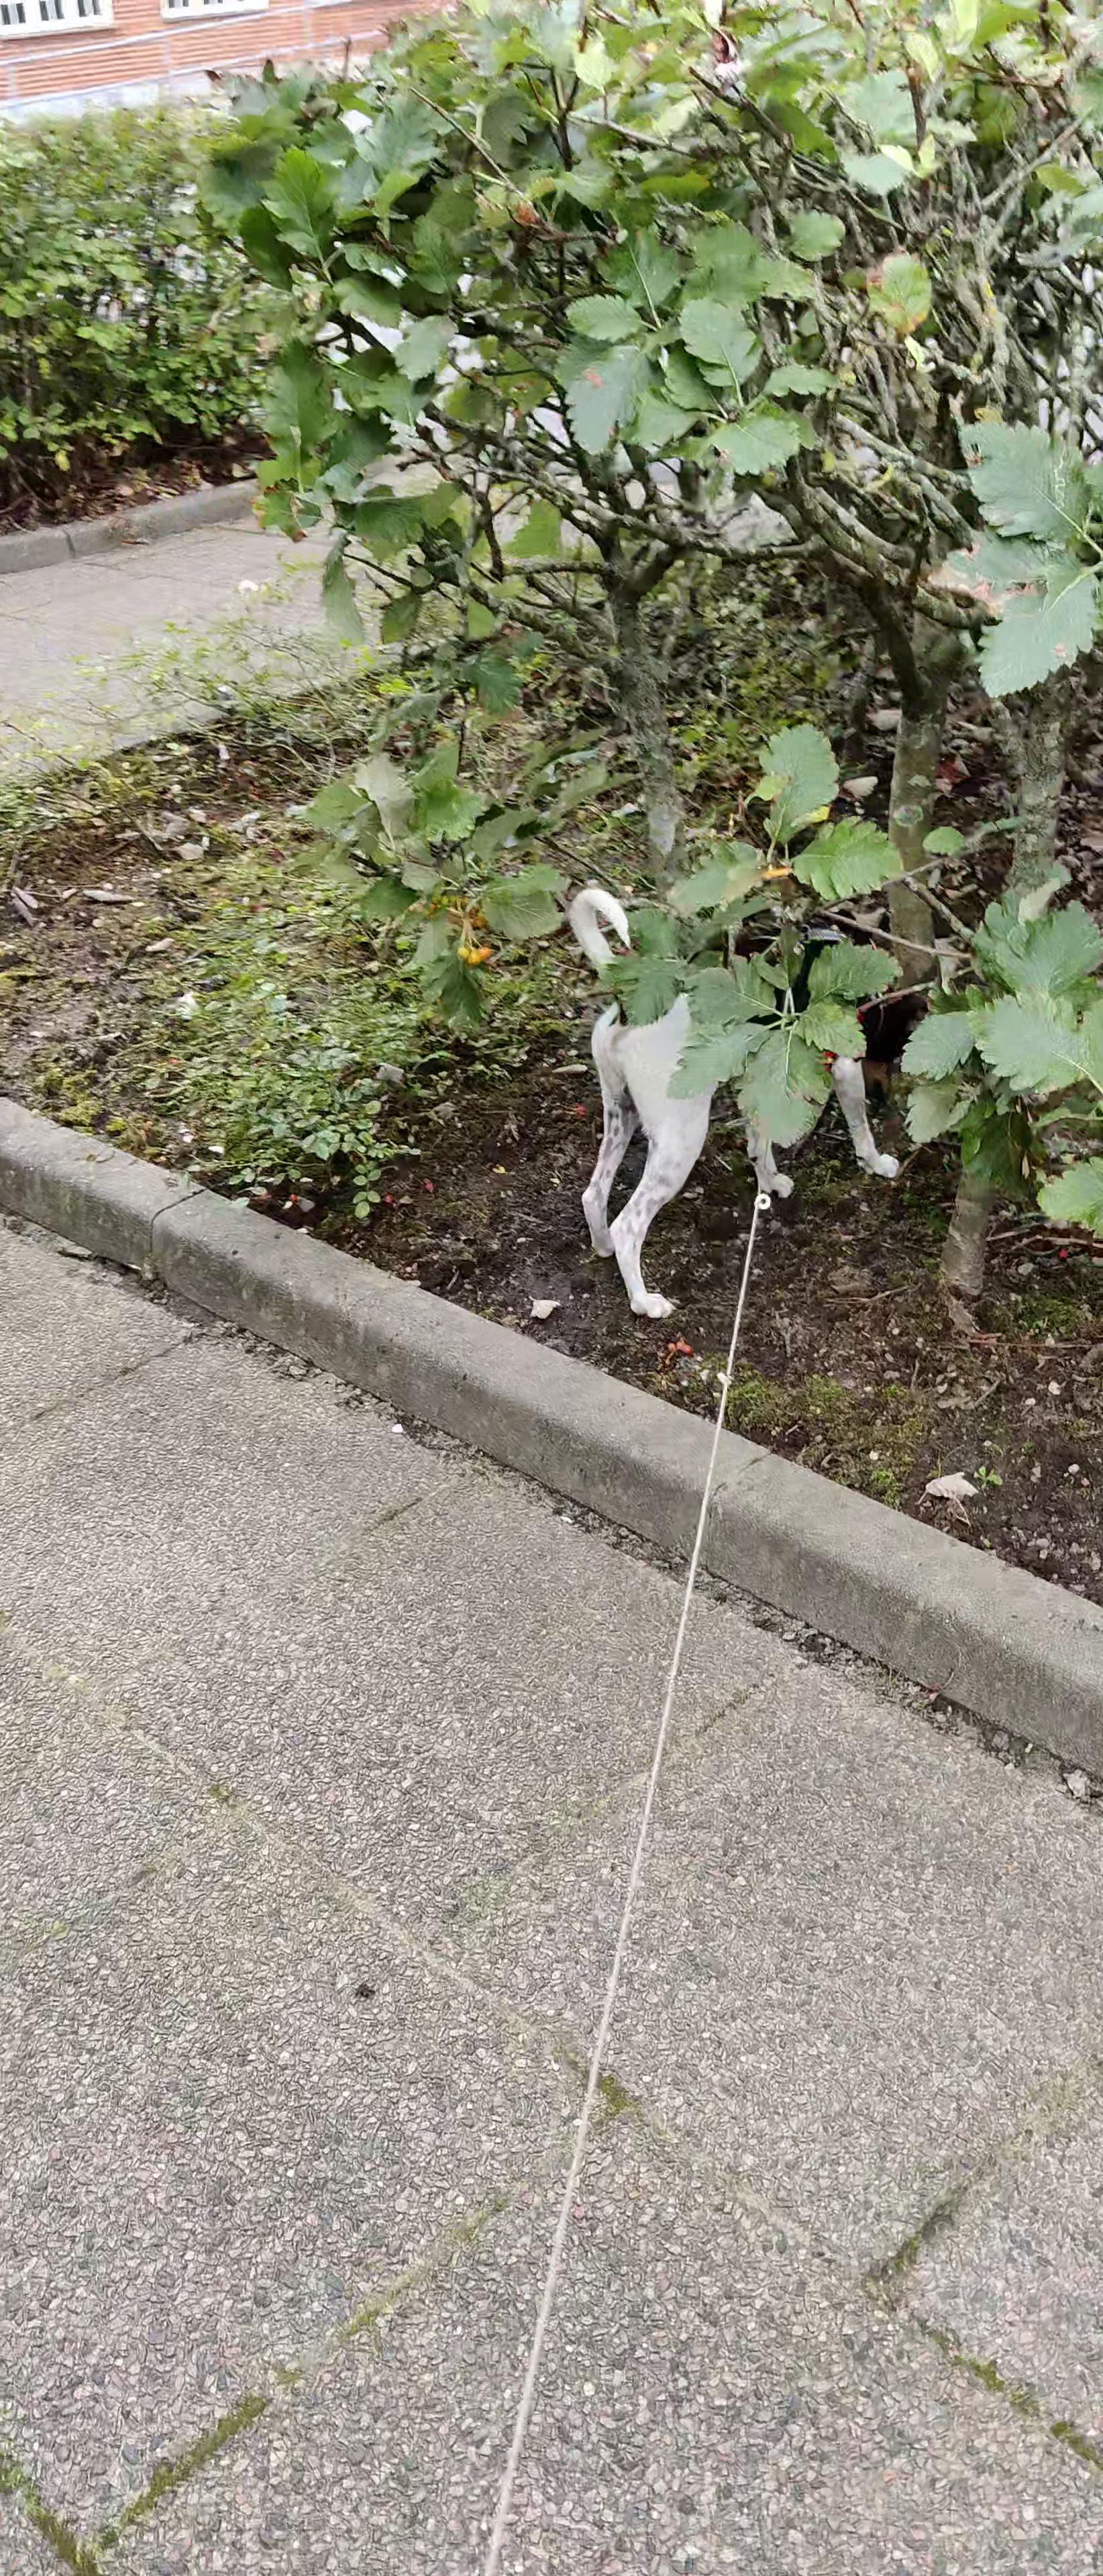Dog: (564, 881, 907, 1319)
